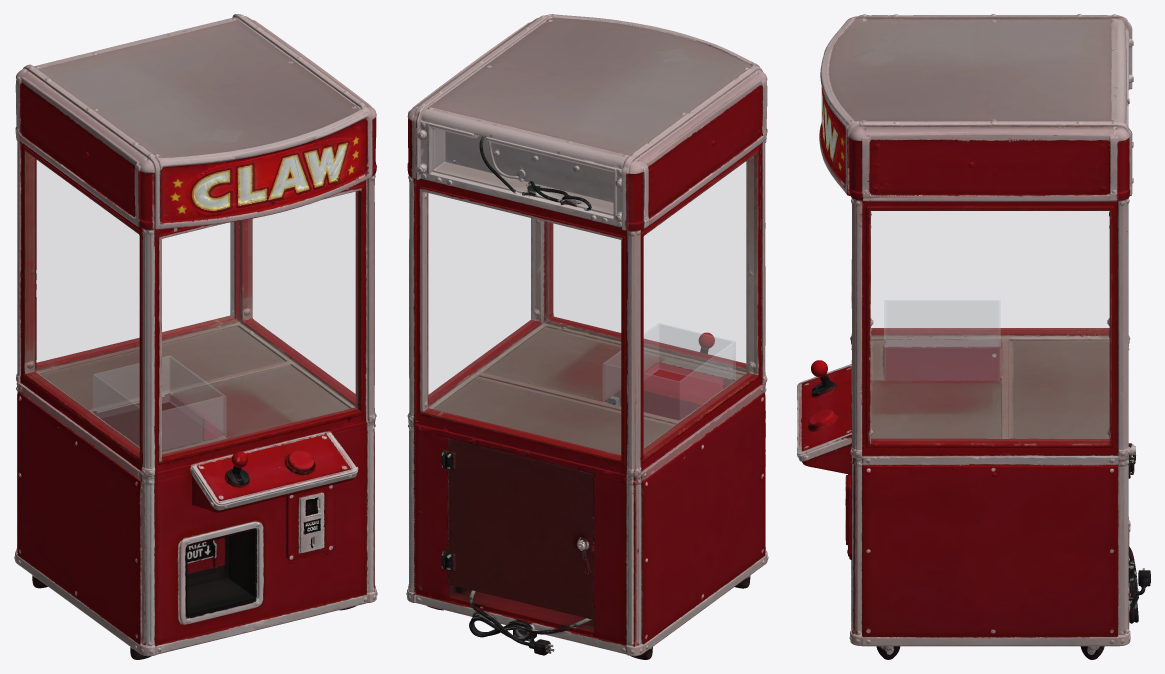
File: cabinet-vidrios.glb
The picture shows the model from 3 angles, left to right: view 1: azimuth 30°, elevation 25°; view 2: azimuth 150°, elevation 25°; view 3: azimuth 270°, elevation 25°; orthographic projection. The views are drawn at different scales.
Visible parts, largest first — view 1: vidrio_frente, tripo_part_2, tripo_part_1, vidrio_izquierda, tripo_part_10, tripo_part_4, tripo_part_8, tripo_part_34, vidrio_buzon, tripo_part_31, tripo_part_18, tripo_part_33 (+26 smaller); view 2: vidrio_atras, tripo_part_1, tripo_part_2, vidrio_izquierda, tripo_part_25, tripo_part_8, vidrio_buzon, tripo_part_4, tripo_part_34, tripo_part_5, tripo_part_18, tripo_part_70 (+30 smaller); view 3: tripo_part_6, vidrio_derecha, tripo_part_2, tripo_part_11, tripo_part_14, vidrio_buzon, tripo_part_34, tripo_part_18, tripo_part_1, tripo_part_31, tripo_part_0, tripo_part_28 (+15 smaller).
Part boxes in pixels (bbox=[...]): vidrio_frente: bbox=[162, 192, 357, 456]; tripo_part_2: bbox=[37, 19, 372, 230]; tripo_part_1: bbox=[15, 138, 158, 646]; vidrio_izquierda: bbox=[29, 156, 138, 452]; tripo_part_10: bbox=[155, 421, 368, 644]; tripo_part_4: bbox=[21, 143, 367, 472]; tripo_part_8: bbox=[15, 68, 160, 230]; tripo_part_34: bbox=[39, 325, 282, 398]; vidrio_buzon: bbox=[93, 355, 226, 450]; tripo_part_31: bbox=[191, 432, 358, 512]; tripo_part_18: bbox=[162, 365, 350, 454]; tripo_part_33: bbox=[179, 520, 264, 624]; vidrio_atras: bbox=[427, 193, 620, 455]; tripo_part_1: bbox=[619, 230, 767, 646]; tripo_part_2: bbox=[428, 14, 759, 156]; vidrio_izquierda: bbox=[644, 156, 753, 453]; tripo_part_25: bbox=[449, 447, 603, 619]; tripo_part_8: bbox=[628, 66, 767, 232]; vidrio_buzon: bbox=[603, 323, 735, 419]; tripo_part_4: bbox=[543, 144, 762, 471]; tripo_part_34: bbox=[433, 379, 658, 454]; tripo_part_5: bbox=[415, 424, 594, 626]; tripo_part_18: bbox=[483, 324, 744, 401]; tripo_part_70: bbox=[451, 466, 521, 572]; tripo_part_6: bbox=[850, 446, 1119, 637]; vidrio_derecha: bbox=[871, 211, 1108, 440]; tripo_part_2: bbox=[819, 14, 1114, 195]; tripo_part_11: bbox=[846, 126, 1114, 200]; tripo_part_14: bbox=[851, 198, 1130, 635]; vidrio_buzon: bbox=[884, 300, 1000, 380]; tripo_part_34: bbox=[1015, 339, 1109, 438]; tripo_part_18: bbox=[870, 339, 998, 438]; tripo_part_1: bbox=[850, 89, 1130, 520]; tripo_part_31: bbox=[797, 364, 851, 474]; tripo_part_0: bbox=[849, 520, 1130, 646]; tripo_part_28: bbox=[967, 126, 1130, 201].
Size of the model in its own units: 0.4792 by 0.9825 by 0.5882.
85 materials, 82 textured.
